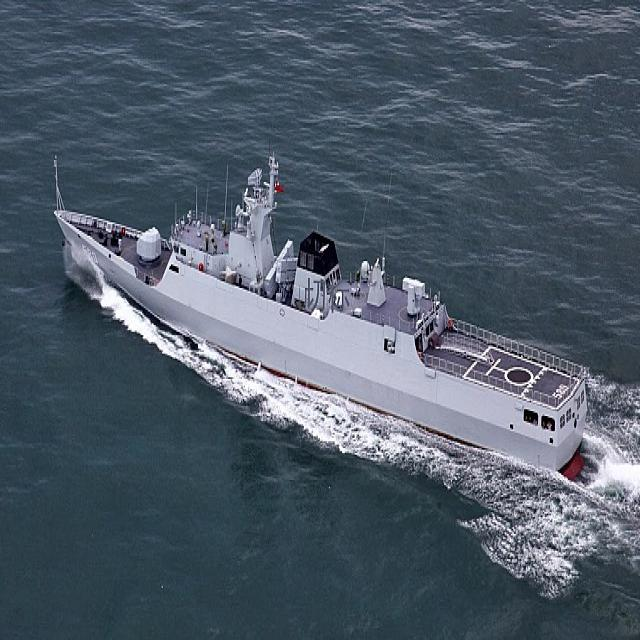Corvette-Jiangdao-class-056-CHI: (45, 145, 590, 483)
